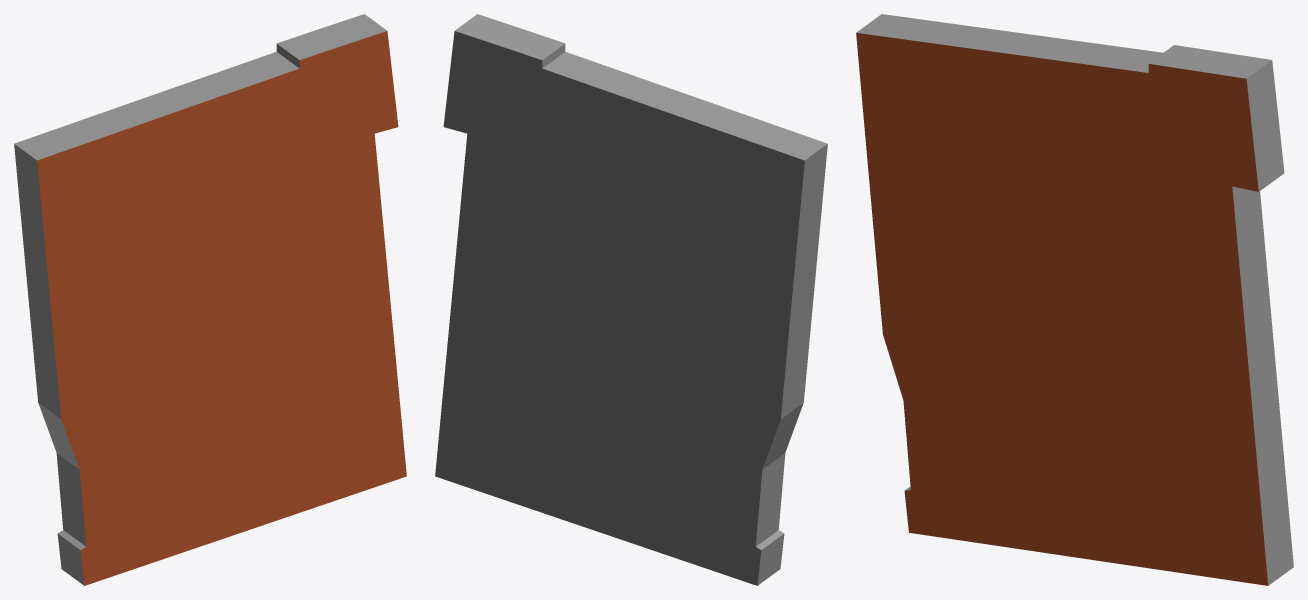
The model's file is construction_1666_assumed_A_Casa_h6m.obj.
3 views of the same model, side by side, from view 1: azimuth 30°, elevation 25°; view 2: azimuth 150°, elevation 25°; view 3: azimuth 330°, elevation 25° (orthographic). The views are drawn at different scales.
Parts seen in each view (by area): view 1: construction_1666_assumed_A_Casa; view 2: construction_1666_assumed_A_Casa; view 3: construction_1666_assumed_A_Casa.
Boxes of the visible parts, x1,y1,x2,y2 form: construction_1666_assumed_A_Casa: [14, 14, 406, 585]; construction_1666_assumed_A_Casa: [435, 14, 827, 585]; construction_1666_assumed_A_Casa: [856, 14, 1293, 585].
Bounding box in the file's own units: 55.59 × 69.13 × 6.
